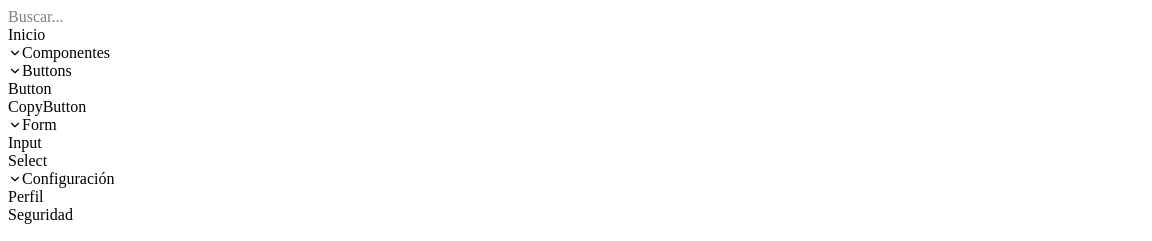
Scenario: Navbar › filter: un subitem matcheado muestra su árbol entero y oculta ramas ajenas
In the field with placeholder "Buscar...": [576, 17] box left=8, top=8, right=1144, bottom=26, type "copybutton"
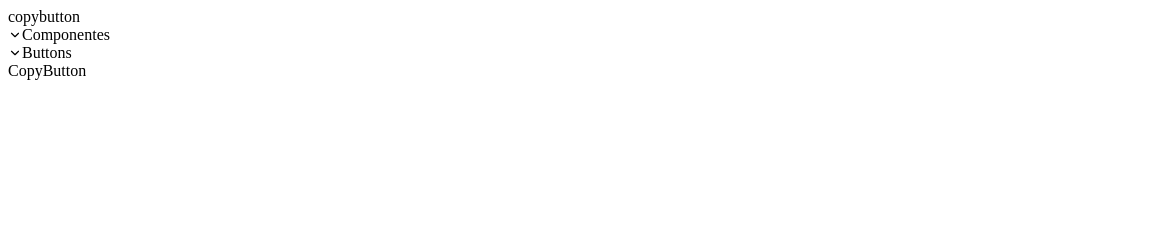
Expected: the text "Input" is gone
Expected: the text "Configuración" is gone
Expected: the text "Inicio" is gone
